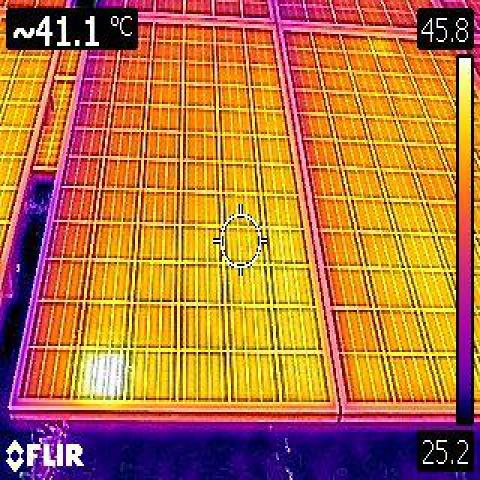fault: (82, 351, 123, 396)
